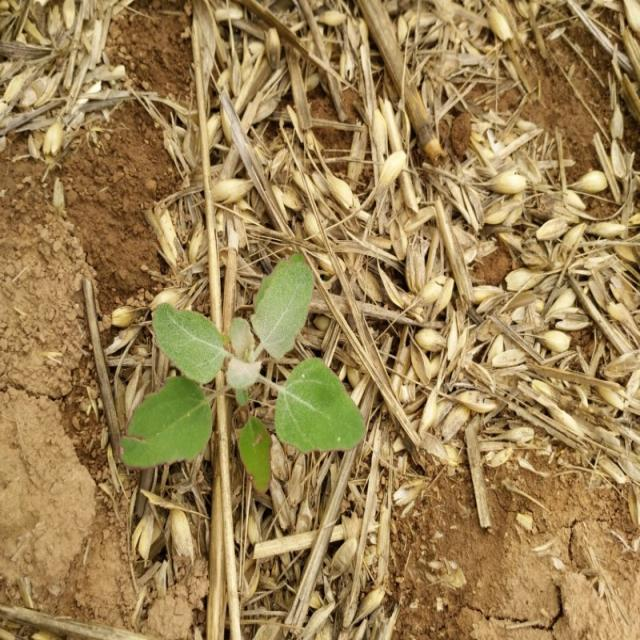ca: (120, 272, 369, 496)
